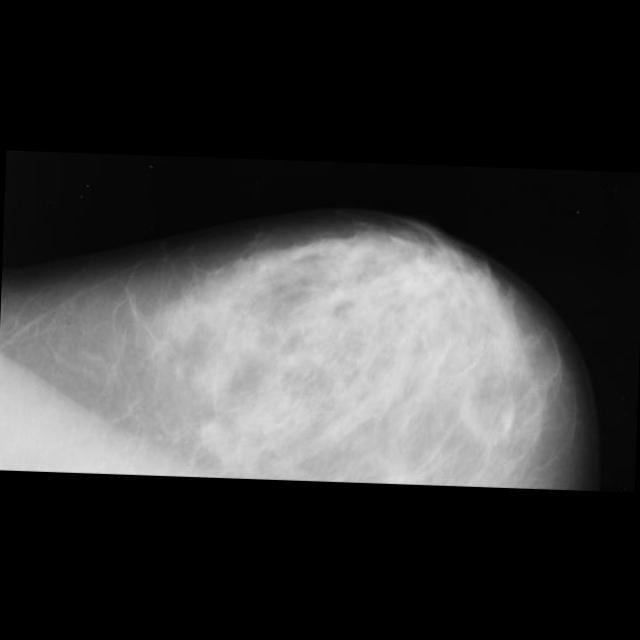MISC: (186, 408, 241, 463)
